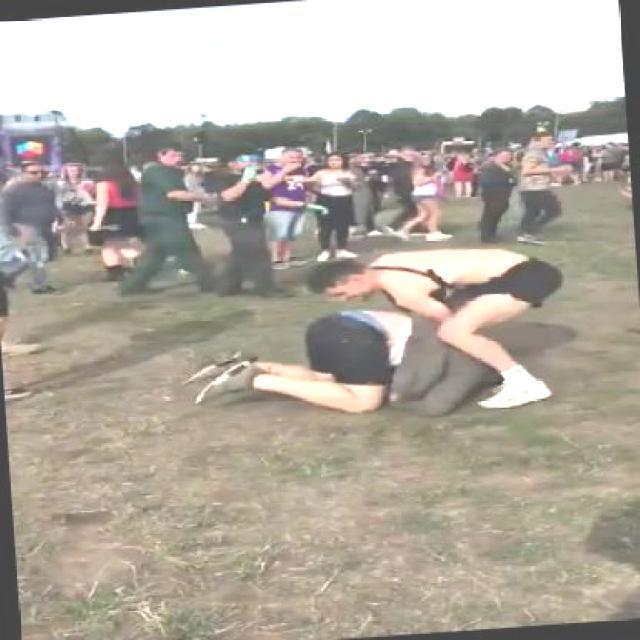fight: (178, 240, 570, 432)
